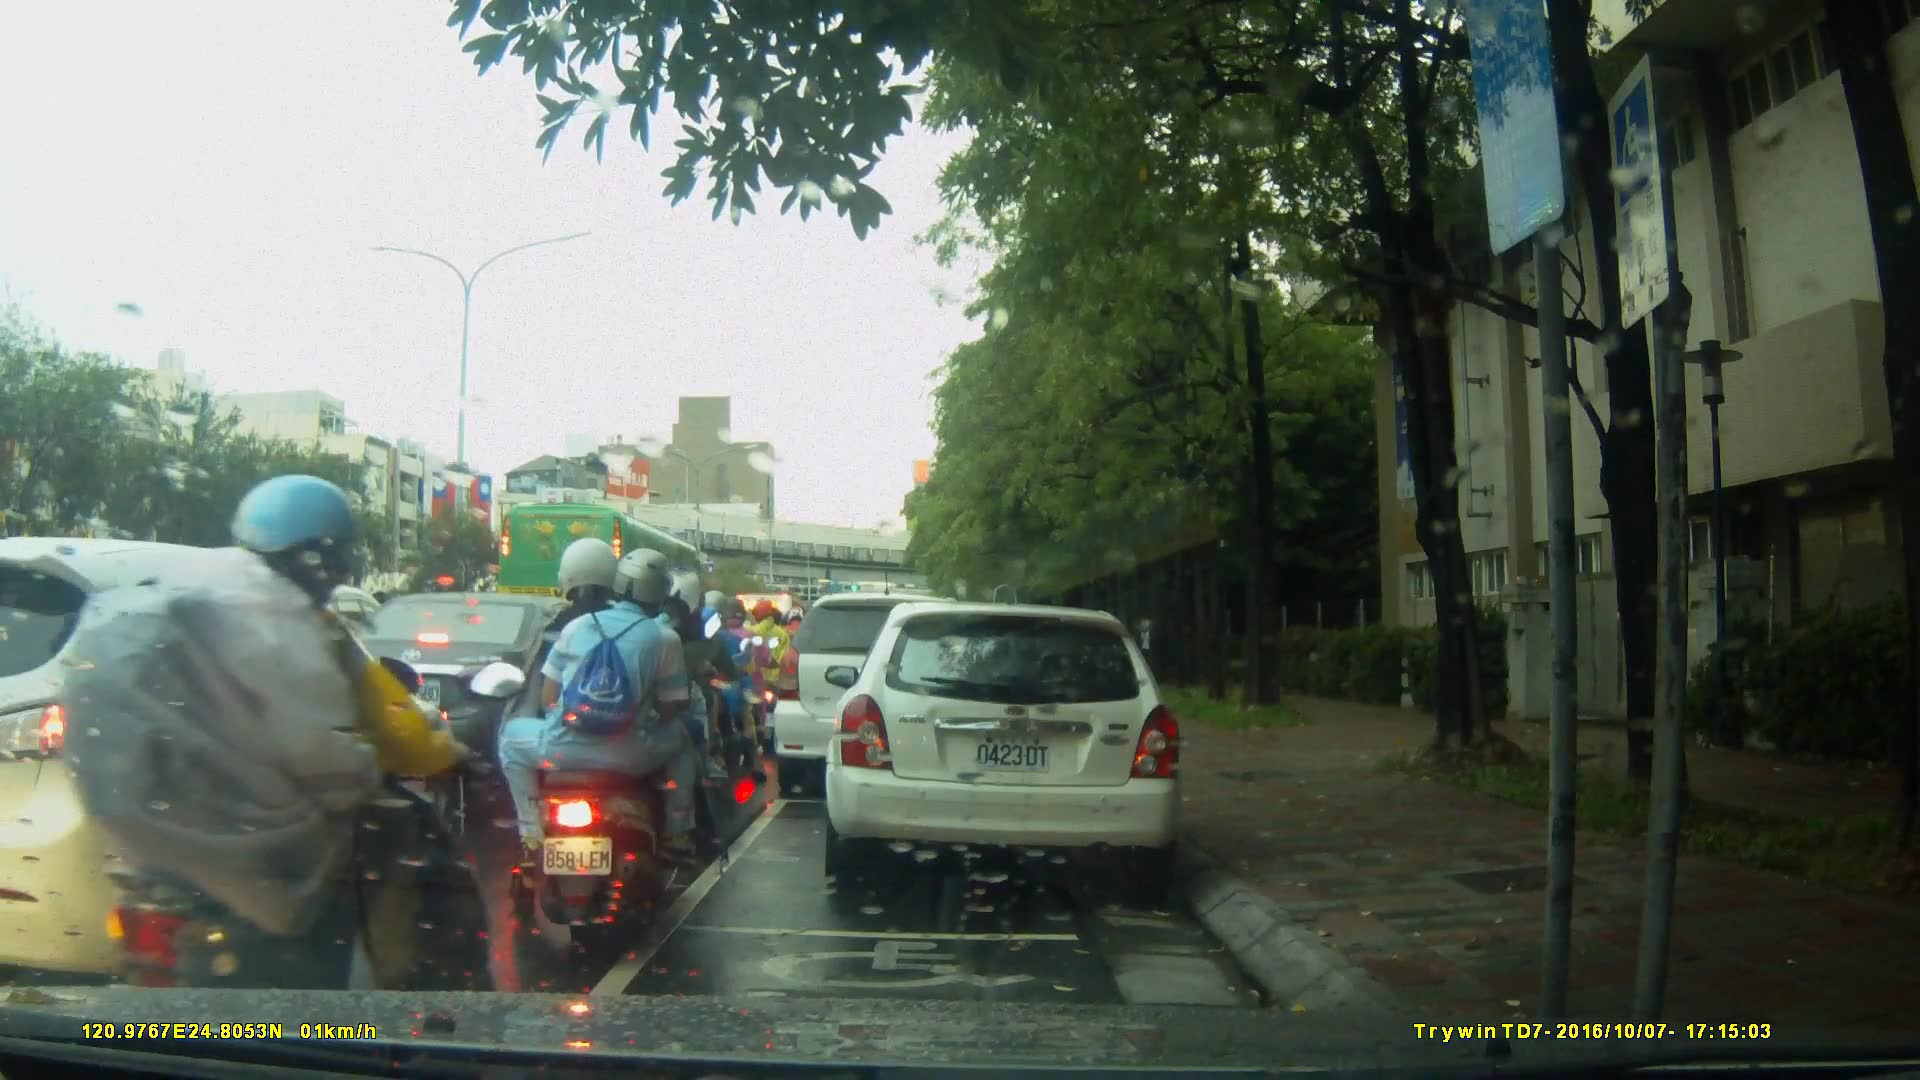rider: (64, 477, 504, 1056), (503, 542, 731, 951), (599, 562, 718, 835), (688, 585, 767, 787), (706, 598, 778, 764), (749, 598, 797, 737)
vehicle: (2, 536, 459, 987), (831, 592, 1196, 897), (312, 590, 629, 776), (773, 590, 999, 803), (497, 502, 713, 636)
